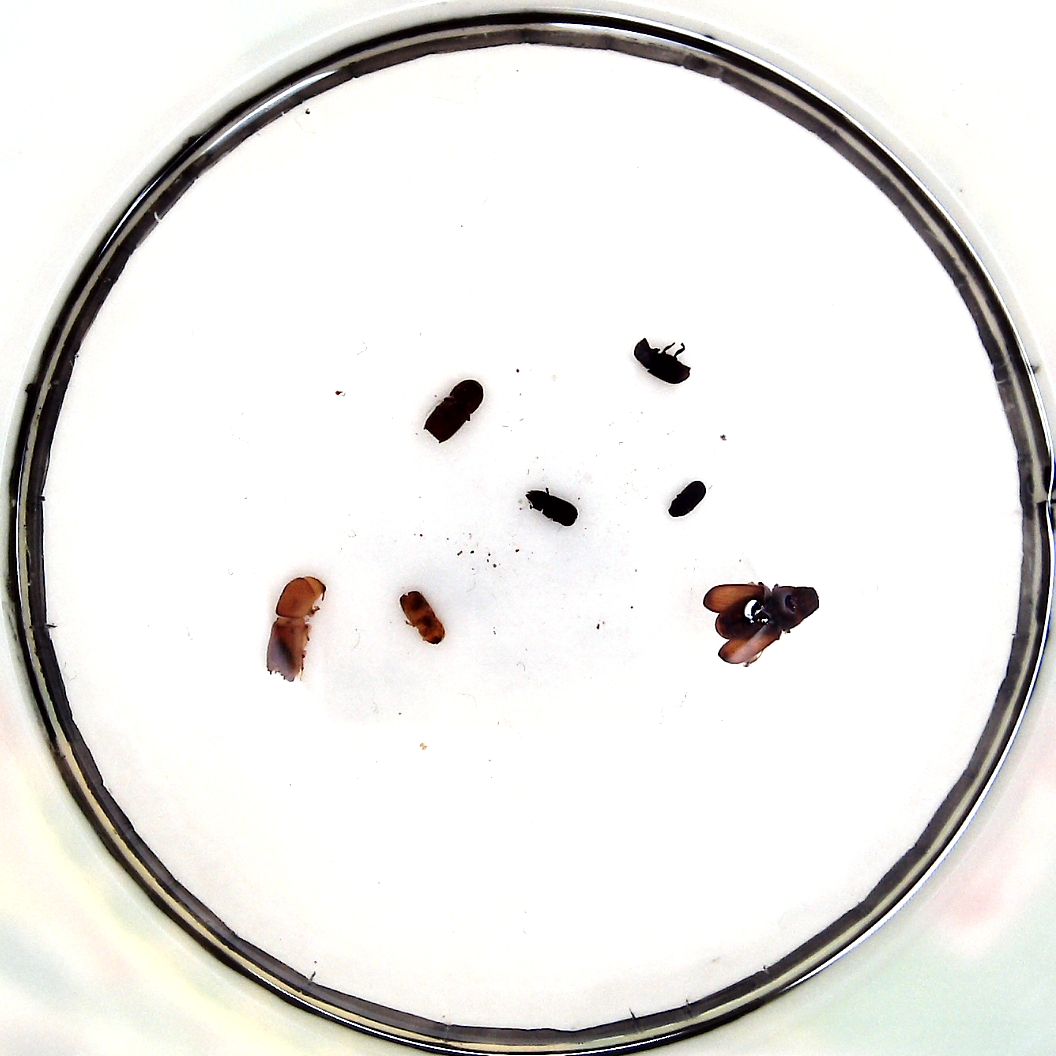Boerner: (266, 576, 322, 684)
Leconte: (703, 578, 822, 666)
Linnaeus: (425, 375, 484, 443)
acuminatus: (401, 587, 446, 646)
armandi: (634, 336, 691, 388)
coleoptera: (525, 488, 584, 528), (667, 481, 707, 523)
